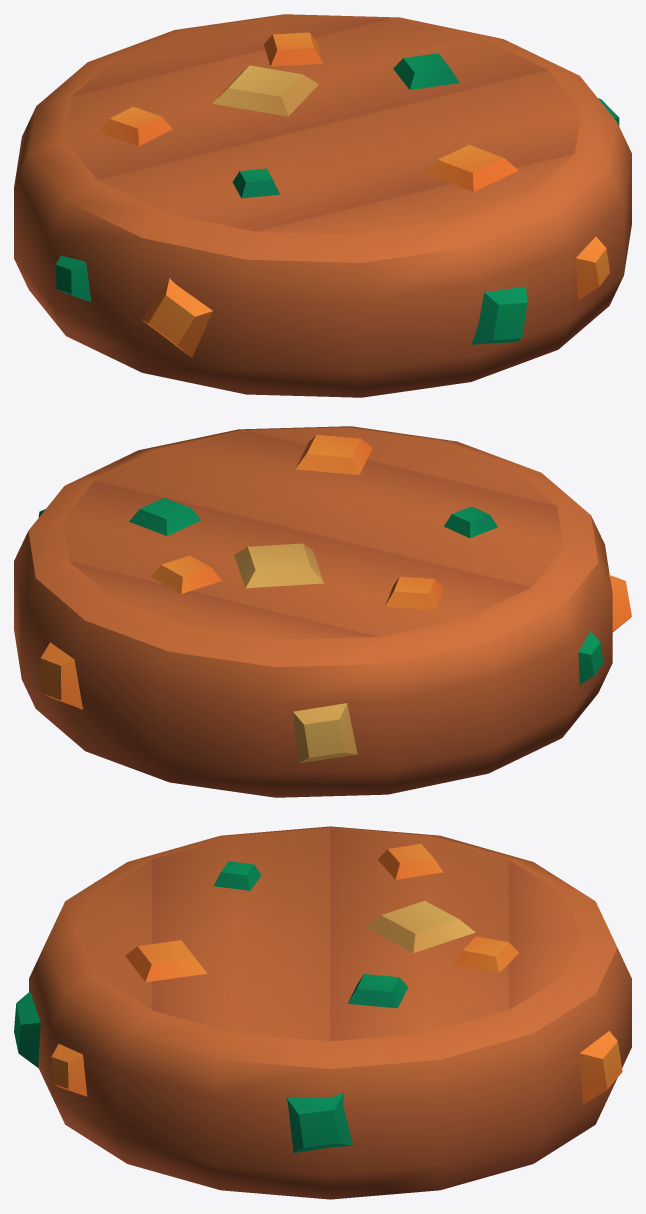
The model's file is kay-food_ingredient_vegetableburger_cooked.glb.
3 renders of one model, top to bottom at view 1: azimuth 30°, elevation 25°; view 2: azimuth 150°, elevation 25°; view 3: azimuth 270°, elevation 25°, orthographic. The views are drawn at different scales.
Parts seen in each view (by area): view 1: food_ingredient_vegetableburger_cooked; view 2: food_ingredient_vegetableburger_cooked; view 3: food_ingredient_vegetableburger_cooked.
Boxes of the visible parts, box(x1,y1,x2,y2) form: food_ingredient_vegetableburger_cooked: box(14, 14, 631, 397); food_ingredient_vegetableburger_cooked: box(14, 426, 631, 797); food_ingredient_vegetableburger_cooked: box(14, 826, 631, 1199).
Size of the model in its own units: 0.22 by 0.0653 by 0.2168.
Materials: 1 (1 with a texture image).
